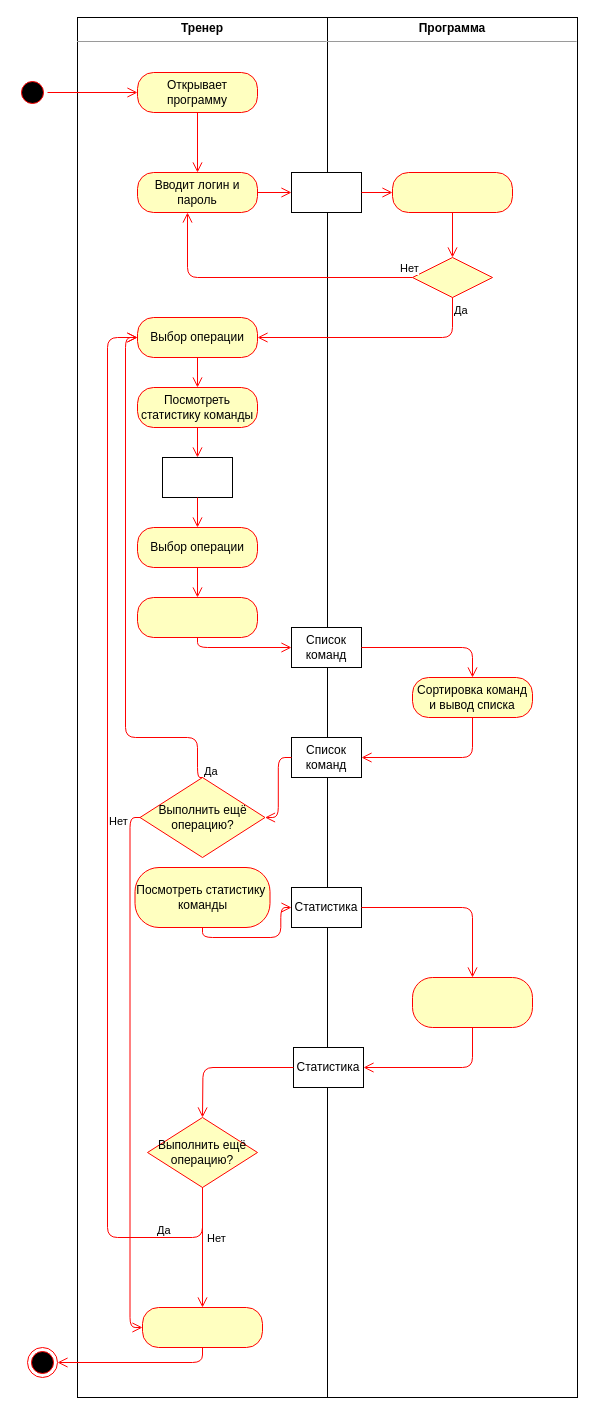
This 595x1415 diagram has some shape labels left out. The centre of each missing label's shape, as x and y in pixels:
Верно?: pixel 452 277
Вывод всей информации о вашей команде: pixel 472 1002
Закрыть программу: pixel 202 1327
Пароль и Логин: pixel 326 192
Посмотреть рейтинг команд: pixel 197 617
Проверка логина и пароля: pixel 452 192
Статистика команды: pixel 197 477
